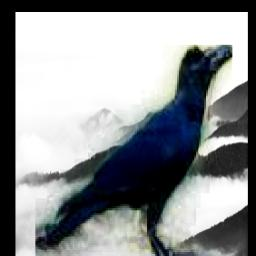Crow: (36, 45, 233, 256)
